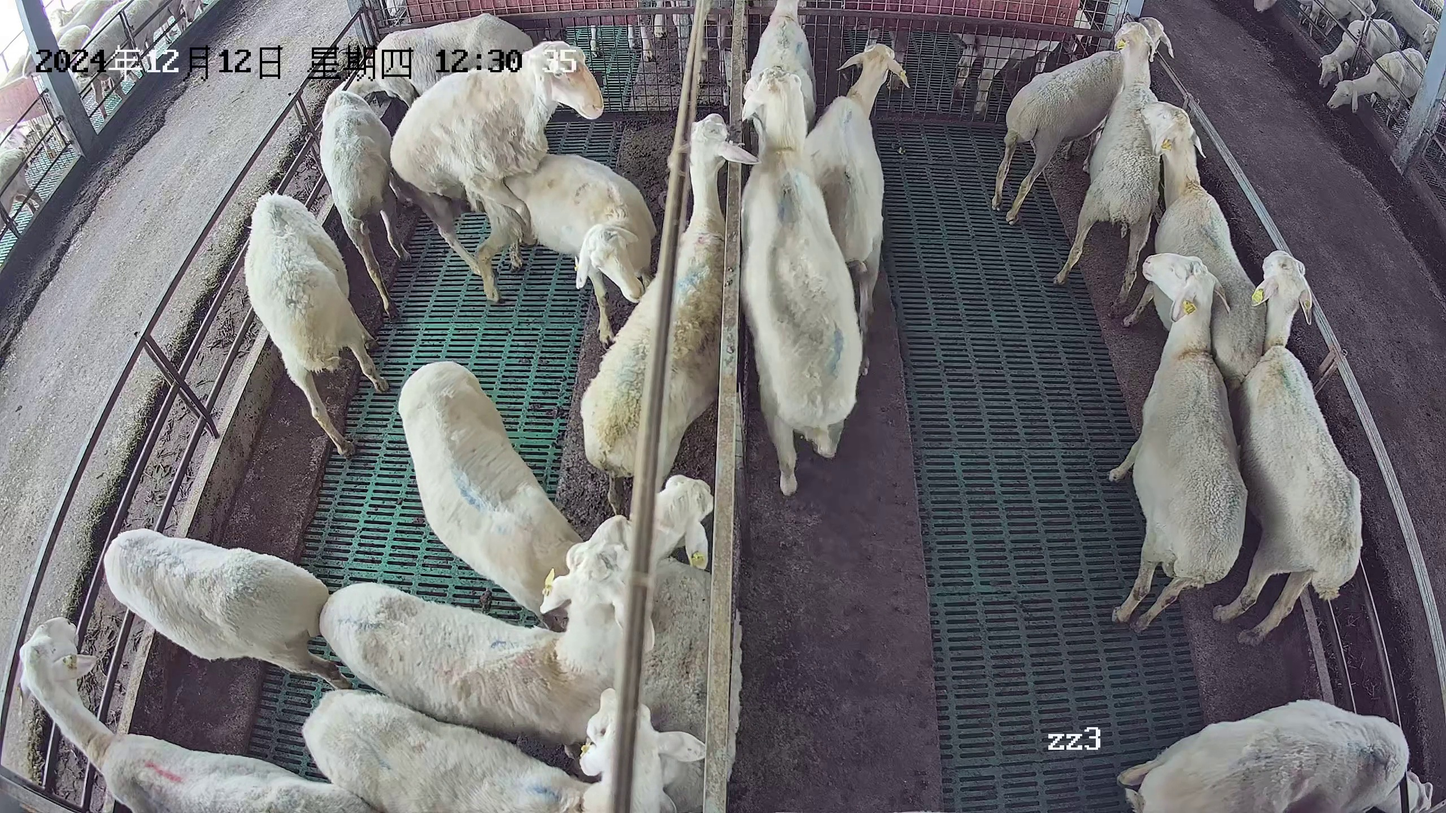Smounting: (387, 39, 658, 349)
mounted: (472, 151, 656, 347)
